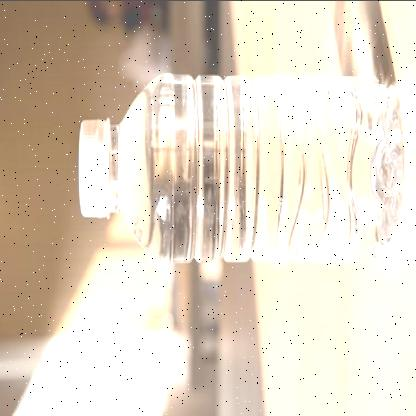Plastic Bottle: (79, 73, 404, 262)
